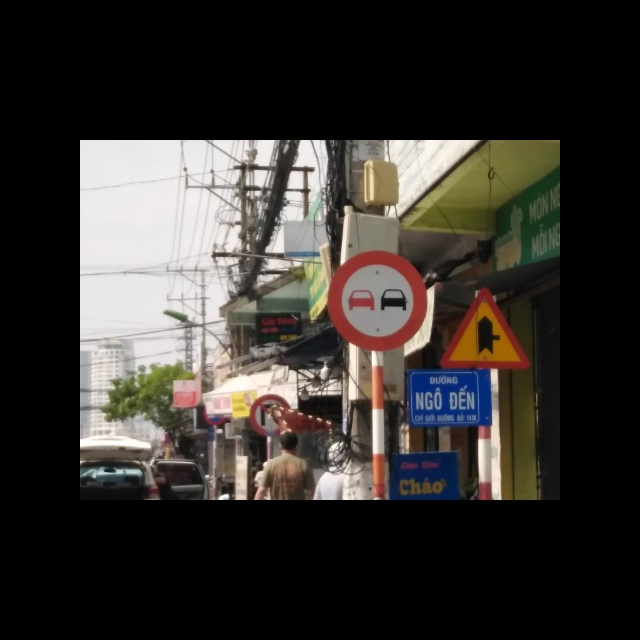Cấm vượt: (326, 249, 428, 352)
Giao nhau với đường không ưu tiên: (440, 285, 531, 372)
